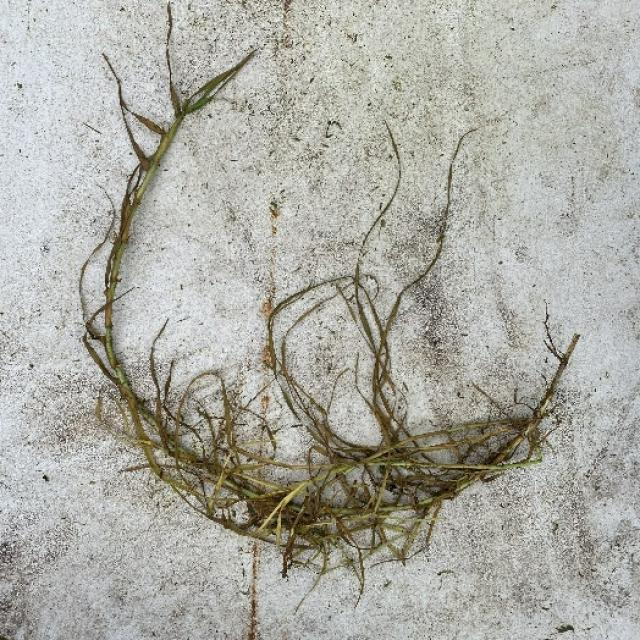organik: (78, 50, 557, 555)
